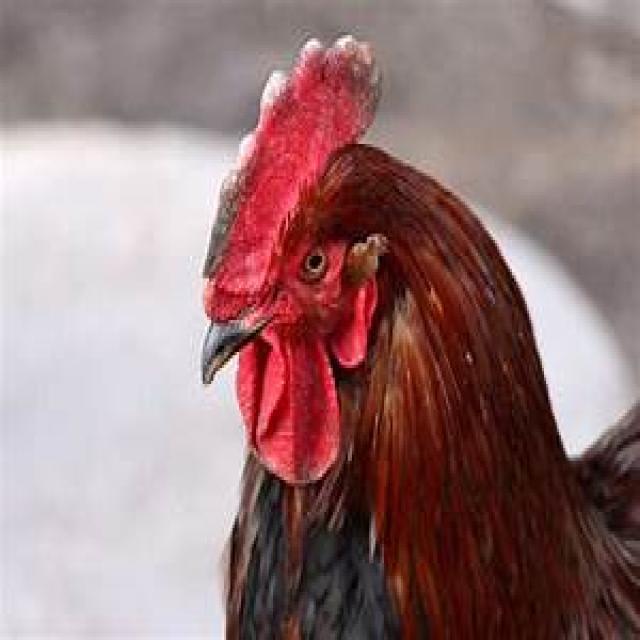animal: (198, 32, 638, 637)
